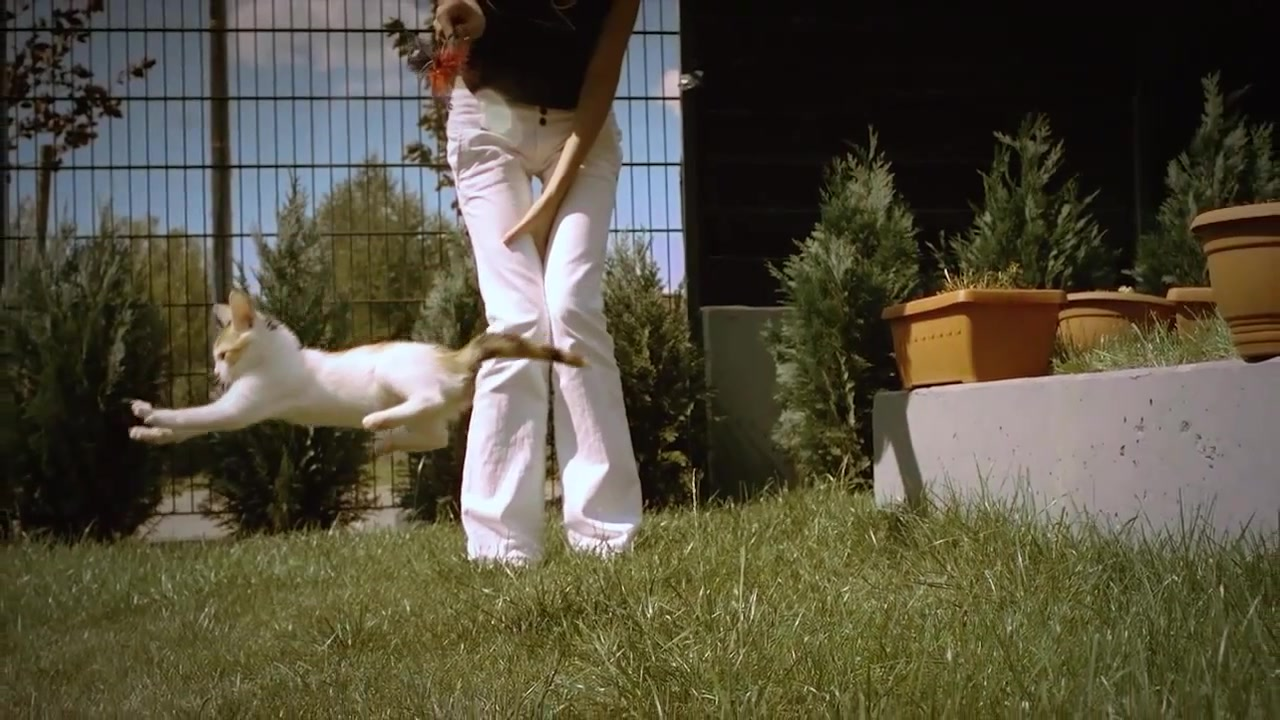cat: (131, 288, 585, 466)
